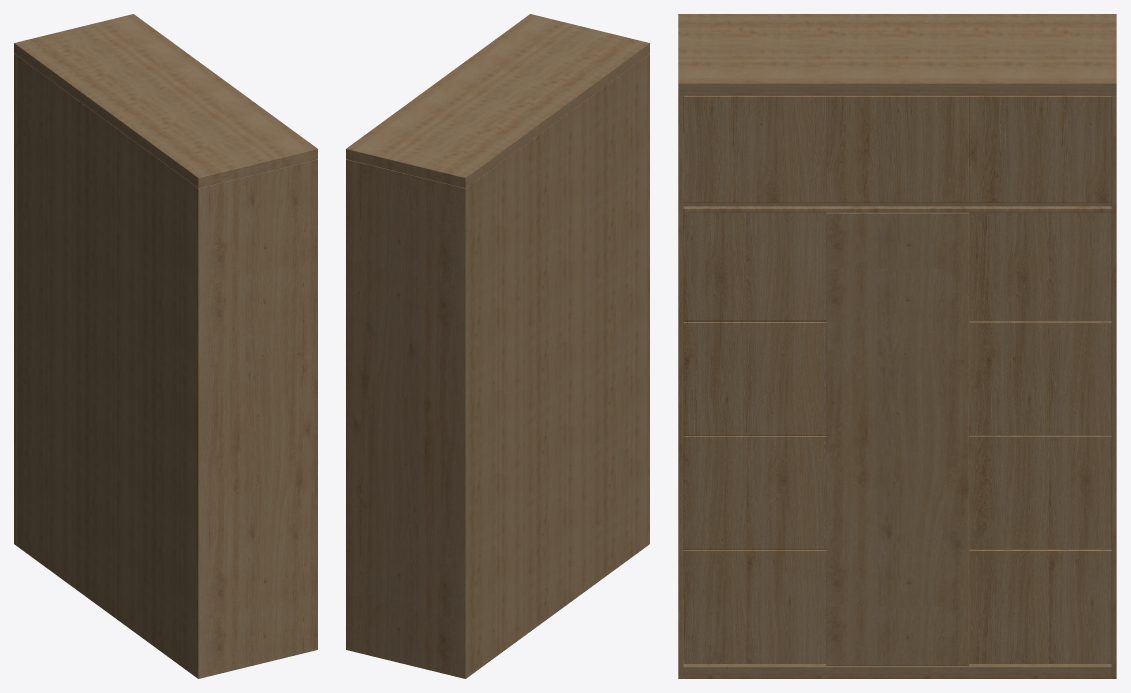
Rendered from wardrobe.glb.
The picture shows the model from 3 angles, left to right: view 1: azimuth 30°, elevation 25°; view 2: azimuth 150°, elevation 25°; view 3: azimuth 270°, elevation 25°; orthographic projection. The views are drawn at different scales.
Parts seen in each view (by area): view 1: Box2131645289, Box2131645224, Box2131645225; view 2: Box2131645289, Box2131645224, Box2131645225; view 3: Box2131645228, Box2131645227, Box2131645226, Box2131645231, Box2131645225, Box2131645224, Box2131645181, Box2131645229, Box2131645233.
Part boxes in pixels (box(x1,y1,x2,y2)): Box2131645289: box(16, 55, 196, 676); Box2131645224: box(14, 53, 317, 678); Box2131645225: box(14, 14, 317, 187); Box2131645289: box(467, 55, 647, 676); Box2131645224: box(346, 53, 649, 678); Box2131645225: box(346, 14, 649, 187); Box2131645228: box(683, 212, 826, 663); Box2131645227: box(826, 212, 968, 665); Box2131645226: box(969, 212, 1111, 663); Box2131645231: box(683, 95, 1111, 202); Box2131645225: box(678, 14, 1116, 95); Box2131645224: box(678, 95, 1116, 678); Box2131645181: box(683, 599, 1111, 678); Box2131645229: box(683, 206, 1111, 212); Box2131645233: box(683, 133, 1111, 206).
Bounding box in the file's own units: 0.6001 × 2.4 × 1.6.
Materials: 1 (1 with a texture image).
